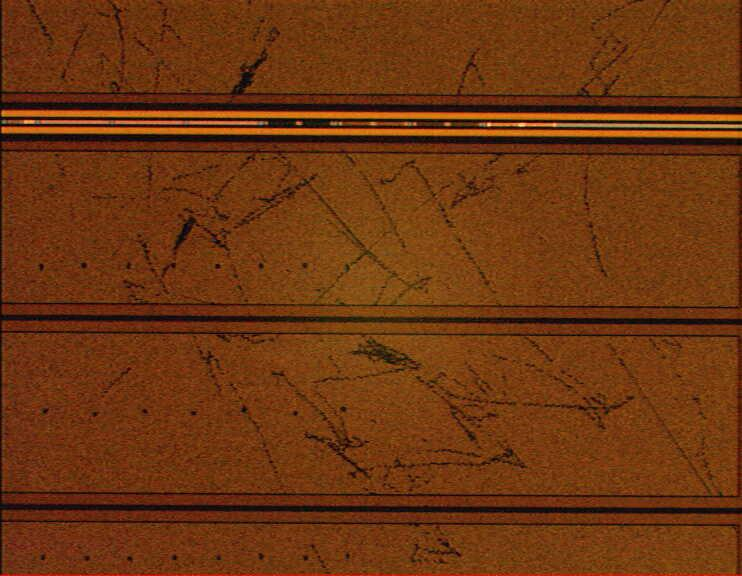SCRATCH: (23, 1, 742, 576)
